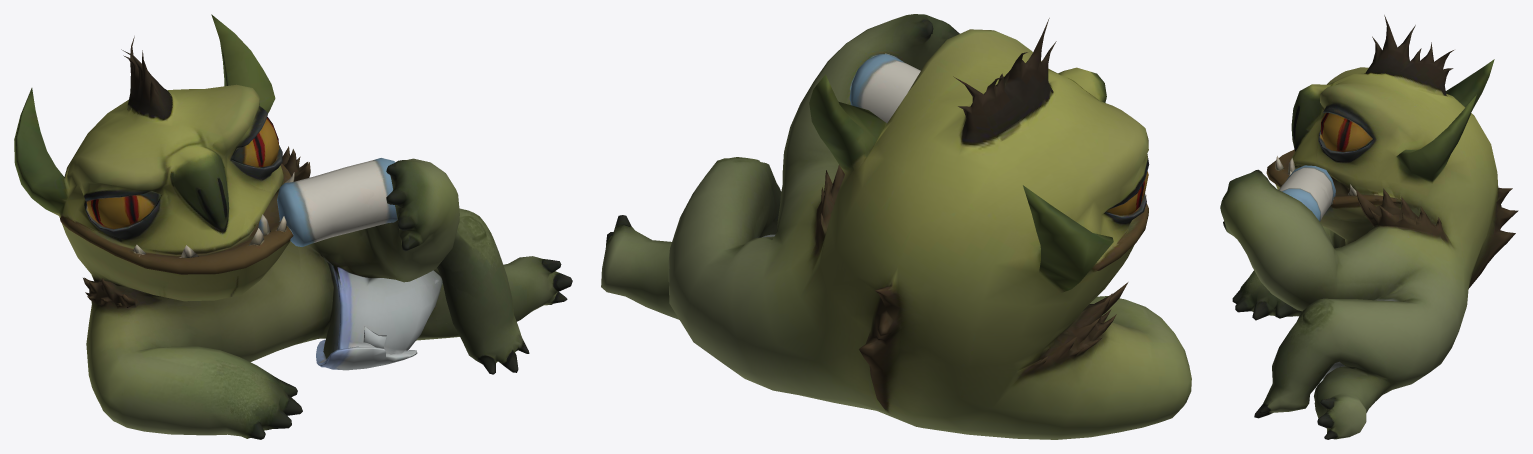
File: selected.glb
The picture shows the model from 3 angles, left to right: view 1: azimuth 30°, elevation 25°; view 2: azimuth 150°, elevation 25°; view 3: azimuth 270°, elevation 25°; orthographic projection. The views are drawn at different scales.
Visible parts, largest first — view 1: tripo_node_32809e80-8bc8-4e36-8d7e-b3ff5246bec7; view 2: tripo_node_32809e80-8bc8-4e36-8d7e-b3ff5246bec7; view 3: tripo_node_32809e80-8bc8-4e36-8d7e-b3ff5246bec7.
Boxes of the visible parts, x1,y1,x2,y2 form: tripo_node_32809e80-8bc8-4e36-8d7e-b3ff5246bec7: [14, 14, 572, 439]; tripo_node_32809e80-8bc8-4e36-8d7e-b3ff5246bec7: [601, 14, 1191, 439]; tripo_node_32809e80-8bc8-4e36-8d7e-b3ff5246bec7: [1220, 15, 1518, 439].
Bounding box in the file's own units: 0.998 × 0.6895 × 0.6543.
1 material, 1 textured.
